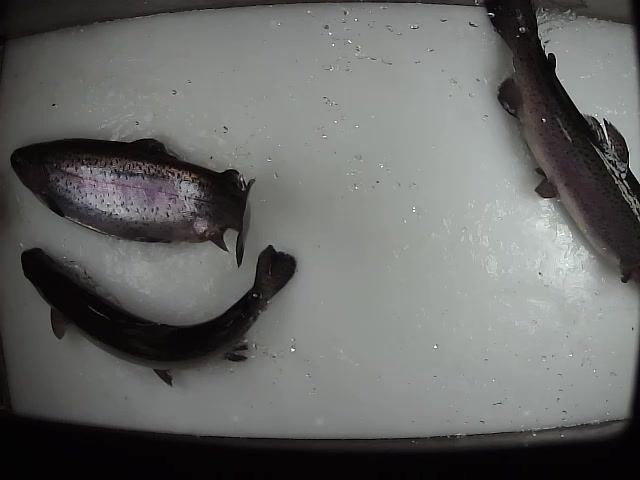fish: (19, 244, 297, 389), (9, 137, 256, 269)
